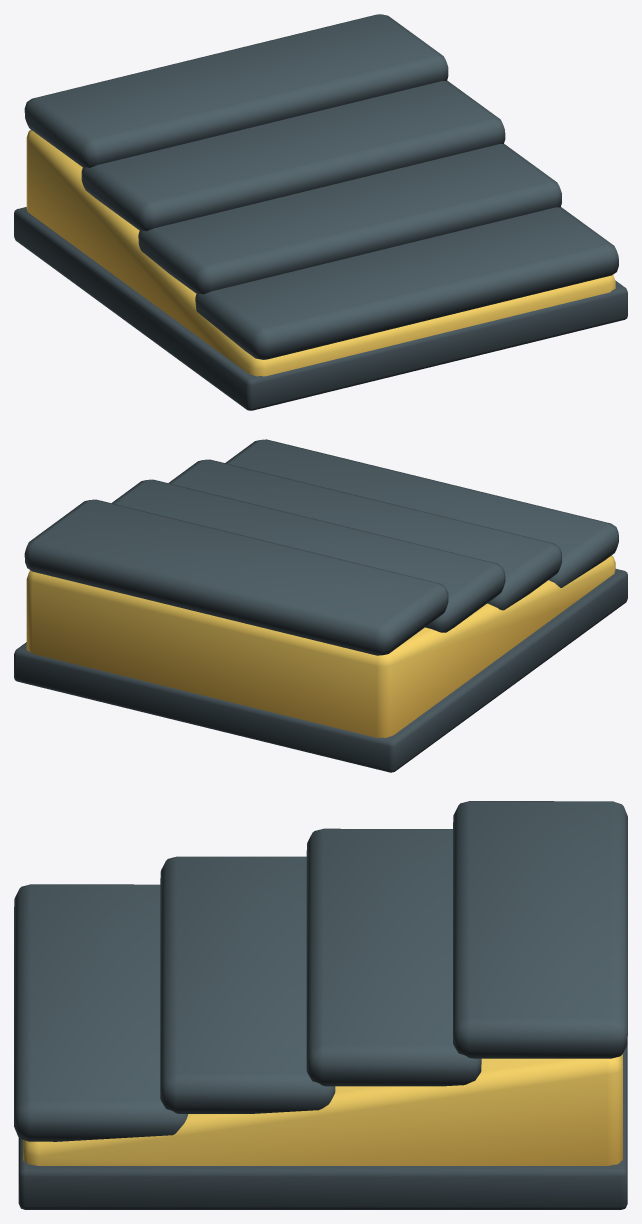
The model's file is mct_homepart_roof01.fbx.
The picture shows the model from 3 angles, top to bottom: view 1: azimuth 30°, elevation 25°; view 2: azimuth 150°, elevation 25°; view 3: azimuth 270°, elevation 25°; orthographic projection. The views are drawn at different scales.
Visible parts, largest first — view 1: roof_01; view 2: roof_01; view 3: roof_01.
Part boxes in pixels (x1,y1,x2,y2): roof_01: [14, 14, 627, 410]; roof_01: [14, 439, 627, 772]; roof_01: [14, 801, 627, 1209].
Size of the model in its own units: 417 by 149 by 452.
